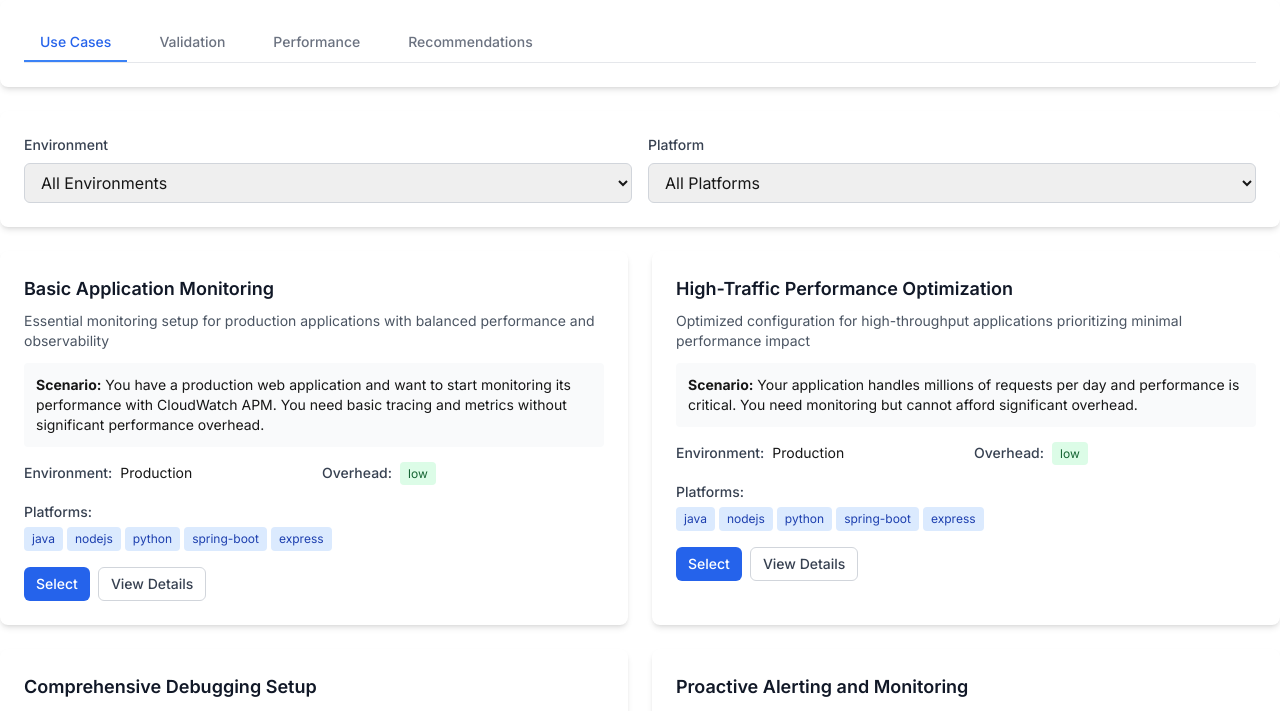
Test: ConfigurationValidationTools › Validation Tab › should switch to validation tab
Click the button "Validation" at (192, 43), box [143, 24, 241, 62]
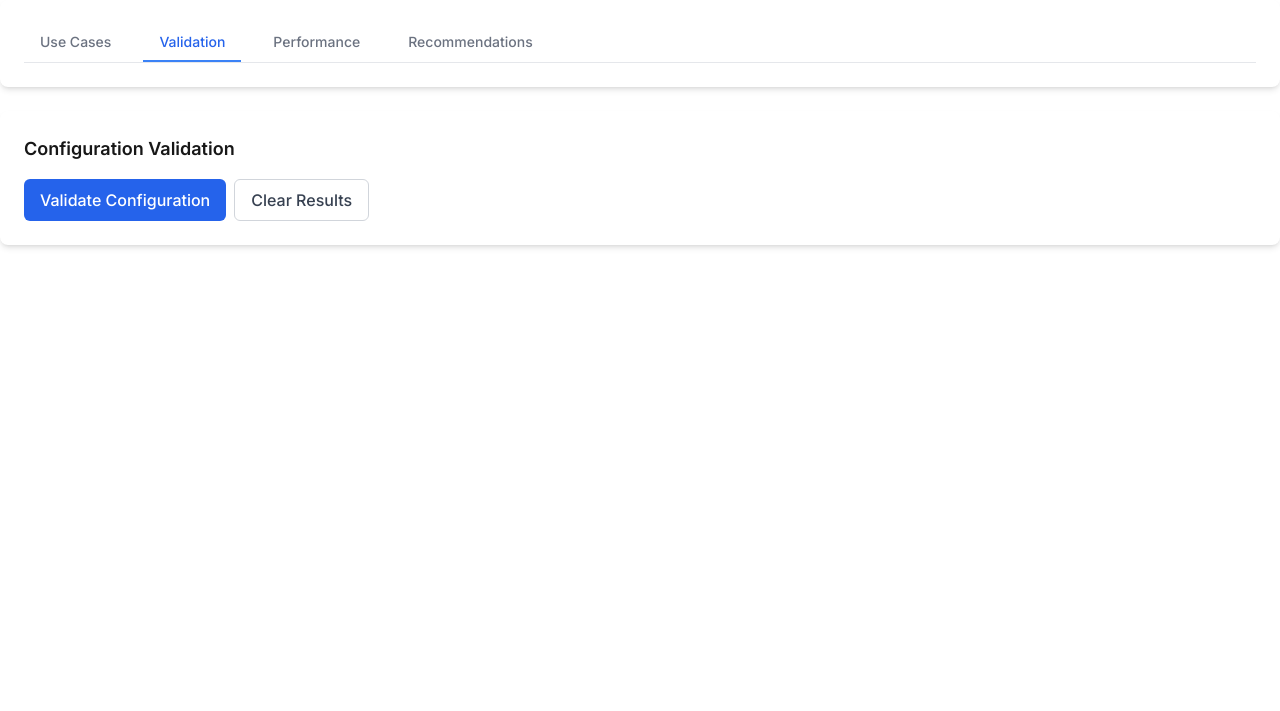
Expected: the heading "Configuration Validation" is shown, [24, 138, 235, 159]
Expected: the button "Validate Configuration" is shown, [24, 179, 226, 221]
